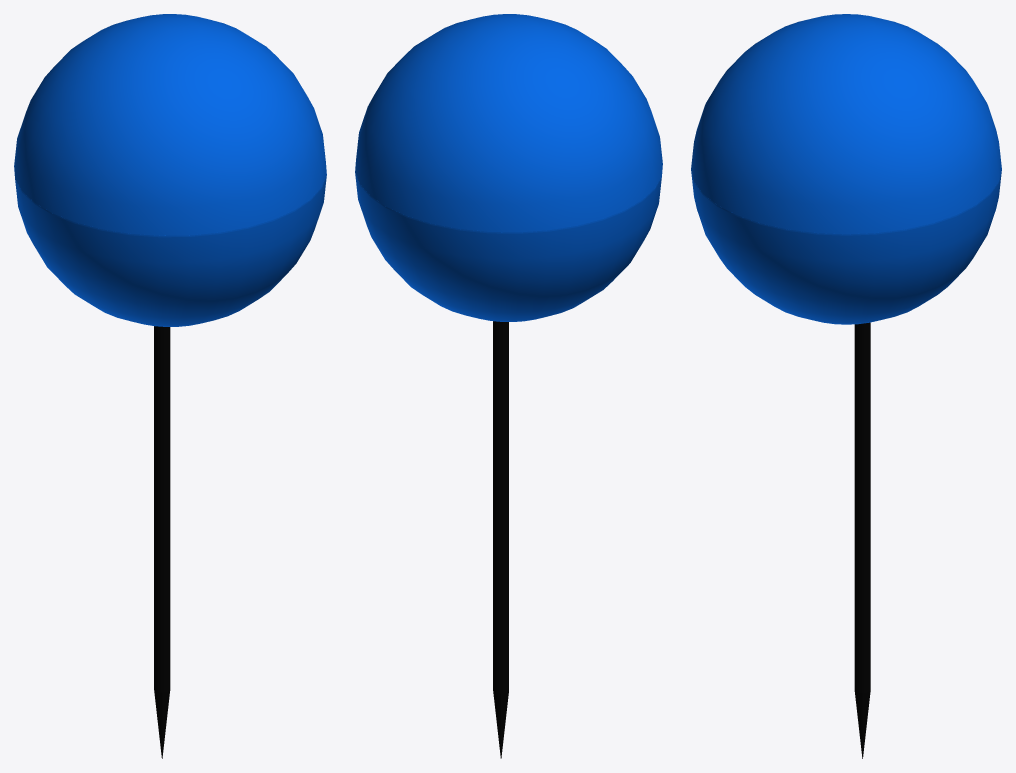
Rendered from Blue ball pin.fbx.
The picture shows the model from 3 angles, left to right: view 1: azimuth 30°, elevation 25°; view 2: azimuth 150°, elevation 25°; view 3: azimuth 270°, elevation 25°; orthographic projection.
Parts seen in each view (by area): view 1: Sphere044; view 2: Sphere044; view 3: Sphere044.
Boxes of the visible parts, x1=… form: Sphere044: x1=14, y1=14, x2=326, y2=758; Sphere044: x1=355, y1=14, x2=662, y2=758; Sphere044: x1=691, y1=14, x2=1001, y2=758.
Size of the model in its own units: 0.7998 by 2.07 by 0.7998.
